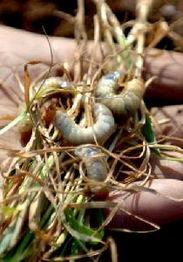grub: (73, 143, 120, 203)
